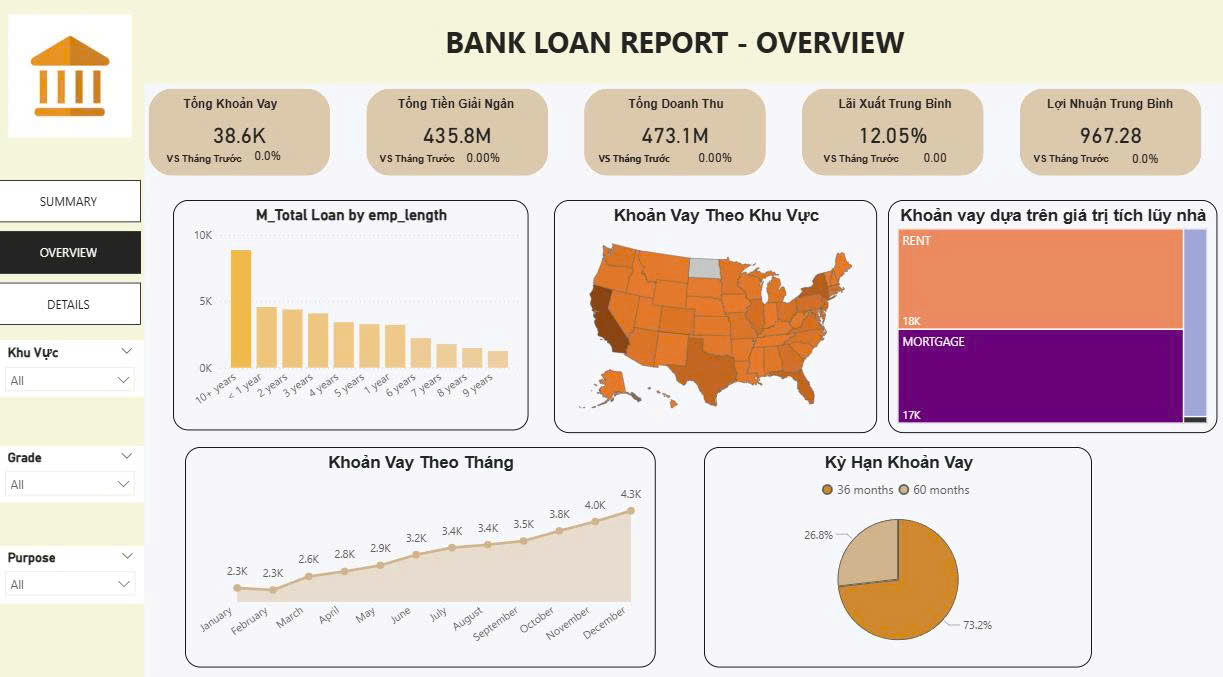

The page's visual inventory and layout, read from the dashboard file:
{"tool":"powerbi","page":{"name":"OVERVIEW","canvas":[1366,756],"ordinal":1},"visuals":[{"type":"textbox","box":[8.9,16.7,351.1,53.3],"z":0},{"type":"shape","box":[0,0,1366.2,93.8],"z":1000},{"type":"shape","box":[0,85,165,670],"z":2000},{"type":"cardVisual","fields":{"Data":["CountNonNull(financial_loan_cleaned_dates.id)","financial_loan_cleaned_dates.M_Total_Amount","financial_loan_cleaned_dates.M_Payment","financial_loan_cleaned_dates.M_Avg_Rate","financial_loan_cleaned_dates.M_AVG_DPI"]},"box":[165,93.8,1180,107.5],"z":3000},{"type":"textbox","box":[184.4,162.2,135.6,30],"z":4000},{"type":"textbox","box":[421.1,162.2,135.6,30],"z":5000},{"type":"textbox","box":[664.4,162.2,135.6,30],"z":6000},{"type":"textbox","box":[412.5,101.9,198.1,26.9],"z":7000},{"type":"textbox","box":[656.4,101.8,198.2,27.3],"z":8000},{"type":"textbox","box":[900,101.8,198.2,27.3],"z":9000},{"type":"textbox","box":[1139.1,101.8,198.2,27.3],"z":10000},{"type":"card","fields":{"Values":["financial_loan_cleaned_dates.M_% total Loan_change"]},"box":[269.6,159.2,63.7,32.8],"z":11000},{"type":"card","fields":{"Values":["financial_loan_cleaned_dates.M_%chang_Total_amout"]},"box":[511.4,162.2,60.7,29.8],"z":12000},{"type":"textbox","box":[421.2,20,666.2,55],"z":13000},{"type":"card","fields":{"Values":["financial_loan_cleaned_dates.M_%Change Profit"]},"box":[769.1,162.2,60.7,29.8],"z":14000},{"type":"card","fields":{"Values":["financial_loan_cleaned_dates.M_%Change Rate"]},"box":[1012.8,162.2,60.7,29.8],"z":15000},{"type":"textbox","box":[914.3,162.2,98.5,29.8],"z":16000},{"type":"textbox","box":[1148.1,162.2,98.5,29.8],"z":17000},{"type":"card","fields":{"Values":["financial_loan_cleaned_dates.M_%Change Rate"]},"box":[1246.6,164.2,60.7,25.9],"z":18000},{"type":"slicer","fields":{"Values":["financial_loan_cleaned_dates.address_state"]},"box":[0,378.6,164.3,62.9],"z":19000},{"type":"slicer","fields":{"Values":["financial_loan_cleaned_dates.grade"]},"box":[0,497.1,164.3,62.9],"z":20000},{"type":"slicer","fields":{"Values":["financial_loan_cleaned_dates.purpose"]},"box":[0,607.5,165,63.8],"z":21000},{"type":"textbox","box":[161.2,102.5,198.8,31.2],"z":22000},{"type":"pieChart","title":"Kỳ Hạn Khoản Vay","fields":{"Category":["financial_loan_cleaned_dates.term"],"Y":["financial_loan_cleaned_dates.M_Total Loan"]},"box":[786.2,497.5,431.2,245],"z":23000},{"type":"shapeMap","title":"Khoản Vay Theo Khu Vực","fields":{"Category":["financial_loan_cleaned_dates.address_state"]},"box":[620,223.8,358.8,258.8],"z":24000},{"type":"treemap","fields":{"Group":["financial_loan_cleaned_dates.home_ownership"],"Values":["financial_loan_cleaned_dates.M_Total Loan"]},"box":[1001.2,221.2,365,258.8],"z":25000},{"type":"columnChart","fields":{"Category":["financial_loan_cleaned_dates.emp_length"],"Y":["financial_loan_cleaned_dates.M_Total Loan"]},"box":[196.2,223.8,395,256.2],"z":26000},{"type":"areaChart","title":"Khoản Vay Theo Tháng","fields":{"Category":["Date_Table.C_Month"],"Y":["financial_loan_cleaned_dates.M_Total Loan"]},"box":[210,497.5,522.5,245],"z":27000},{"type":"pageNavigator","box":[0,201.4,161.4,162.9],"z":28000},{"type":"image","box":[8.6,11.4,147.1,148.6],"z":28001}]}

Visuals, with their boxes on the page's 1366x756 design canvas (x1, y1, x2, y2). These are canvas units, not pixel positions in the 1223x677 screenshot, which may show the page scaled, cropped or inside an application window:
textbox: rect(9, 17, 360, 70)
shape: rect(0, 0, 1366, 94)
shape: rect(0, 85, 165, 755)
cardVisual - CountNonNull(financial_loan_cleaned_dates.id) x financial_loan_cleaned_dates.M_Total_Amount: rect(165, 94, 1345, 201)
textbox: rect(184, 162, 320, 192)
textbox: rect(421, 162, 557, 192)
textbox: rect(664, 162, 800, 192)
textbox: rect(412, 102, 611, 129)
textbox: rect(656, 102, 855, 129)
textbox: rect(900, 102, 1098, 129)
textbox: rect(1139, 102, 1337, 129)
card - financial_loan_cleaned_dates.M_% total Loan_change: rect(270, 159, 333, 192)
card - financial_loan_cleaned_dates.M_%chang_Total_amout: rect(511, 162, 572, 192)
textbox: rect(421, 20, 1087, 75)
card - financial_loan_cleaned_dates.M_%Change Profit: rect(769, 162, 830, 192)
card - financial_loan_cleaned_dates.M_%Change Rate: rect(1013, 162, 1074, 192)
textbox: rect(914, 162, 1013, 192)
textbox: rect(1148, 162, 1247, 192)
card - financial_loan_cleaned_dates.M_%Change Rate: rect(1247, 164, 1307, 190)
slicer - financial_loan_cleaned_dates.address_state: rect(0, 379, 164, 442)
slicer - financial_loan_cleaned_dates.grade: rect(0, 497, 164, 560)
slicer - financial_loan_cleaned_dates.purpose: rect(0, 608, 165, 671)
textbox: rect(161, 102, 360, 134)
"Kỳ Hạn Khoản Vay" pieChart: rect(786, 498, 1217, 742)
"Khoản Vay Theo Khu Vực" shapeMap: rect(620, 224, 979, 483)
treemap - financial_loan_cleaned_dates.home_ownership x financial_loan_cleaned_dates.M_Total Loan: rect(1001, 221, 1366, 480)
columnChart - financial_loan_cleaned_dates.emp_length x financial_loan_cleaned_dates.M_Total Loan: rect(196, 224, 591, 480)
"Khoản Vay Theo Tháng" areaChart: rect(210, 498, 732, 742)
pageNavigator: rect(0, 201, 161, 364)
image: rect(9, 11, 156, 160)
